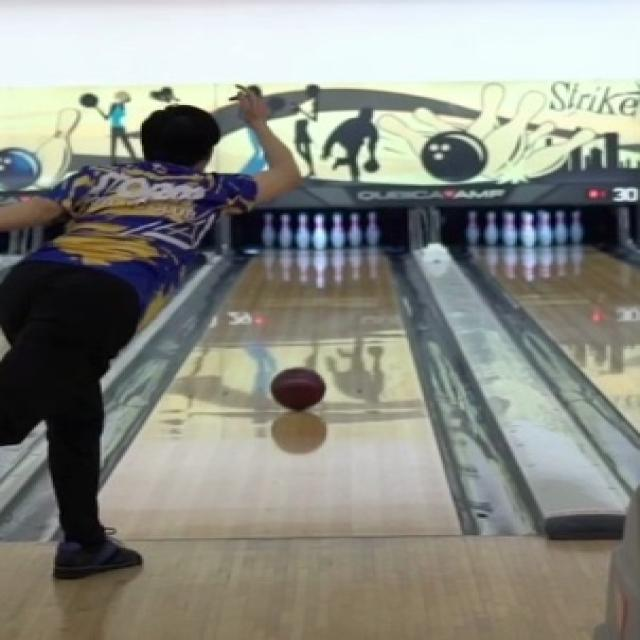alley: (104, 249, 460, 543)
balls: (271, 368, 324, 411)
bottle: (261, 210, 377, 247)
